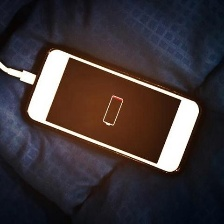phone: (18, 41, 206, 181)
